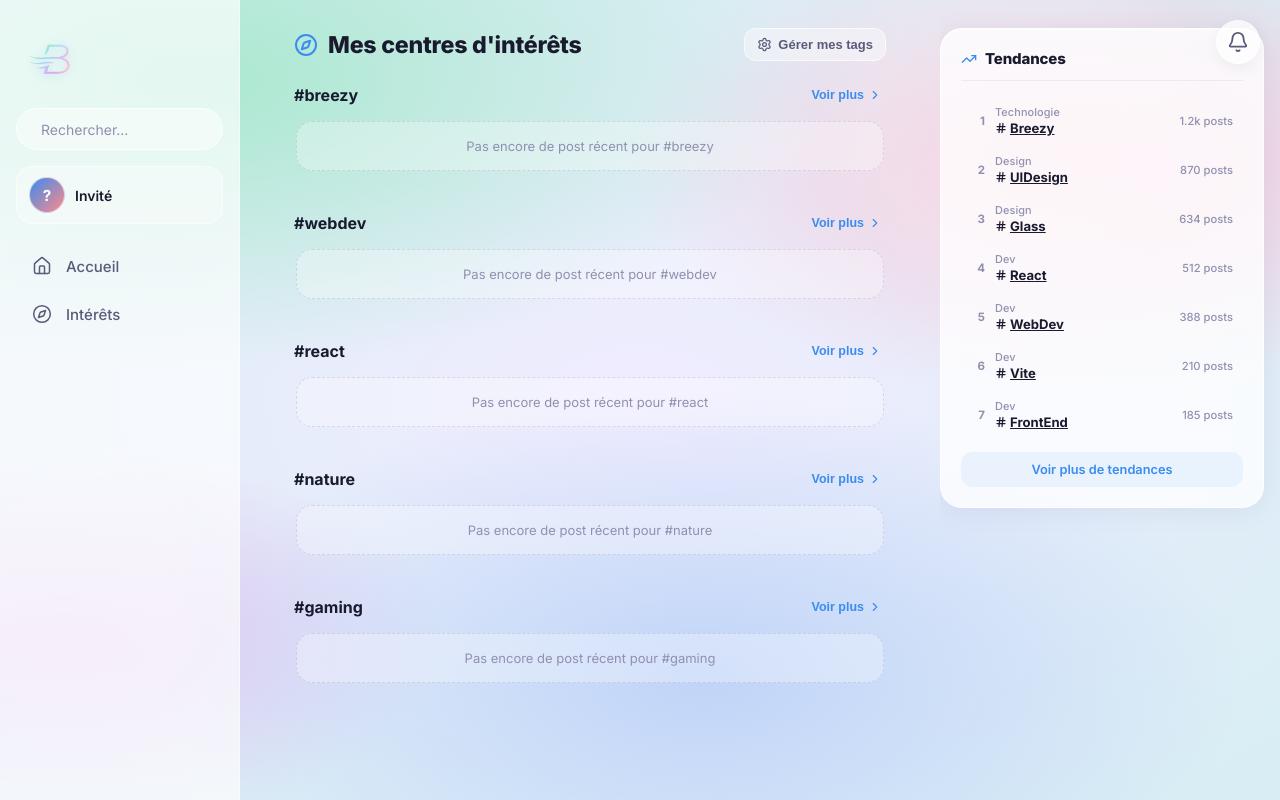
Test case: InterestsPage › permet de basculer en mode focus sur un tag puis de revenir
This screenshot has width=1280, height=800.
Click the button with aria-label "Voir plus de posts pour #nature" at (847, 479), box left=812, top=472, right=882, bottom=486
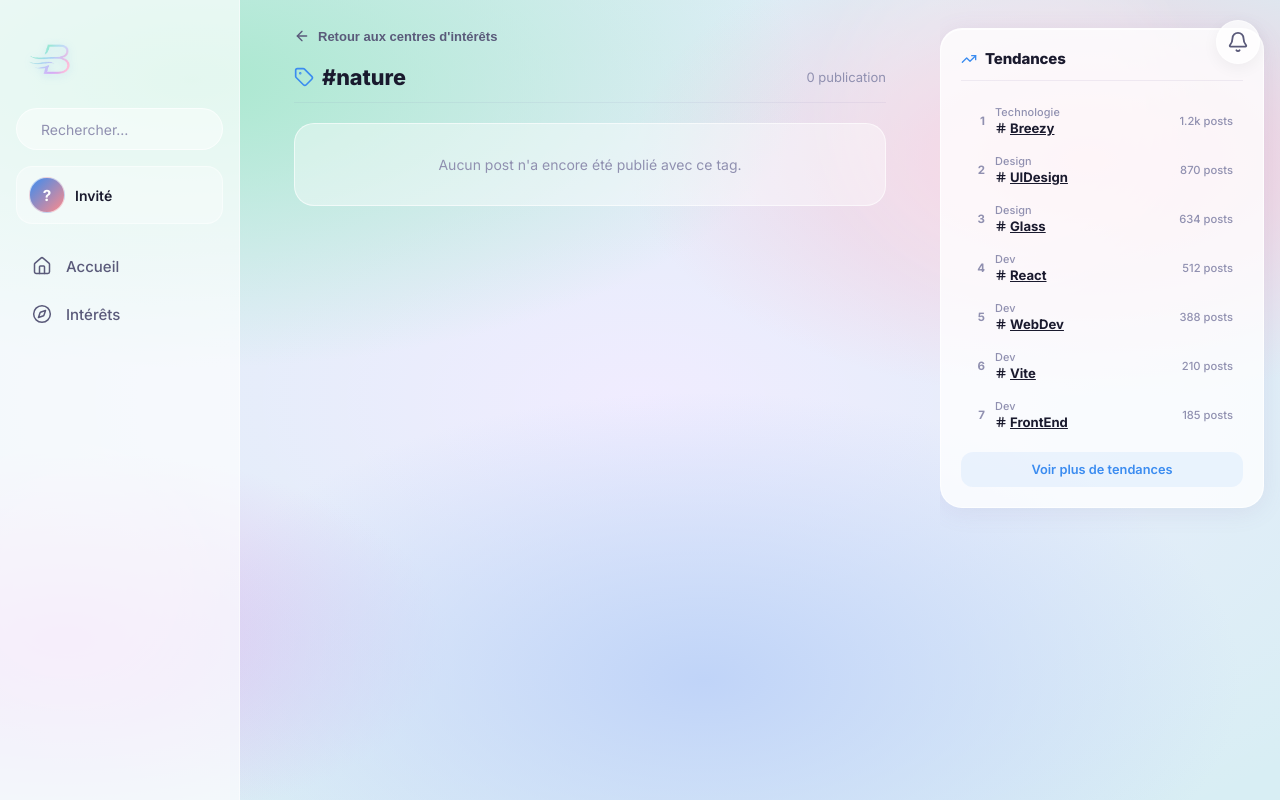
Expected: the heading "#nature" is shown, left=322, top=64, right=406, bottom=90
Expected: the button "Retour aux centres d'intérêts" is shown
Note: Cliquer sur retour
Click the button "Retour aux centres d'intérêts" at (396, 36), box left=294, top=28, right=497, bottom=44
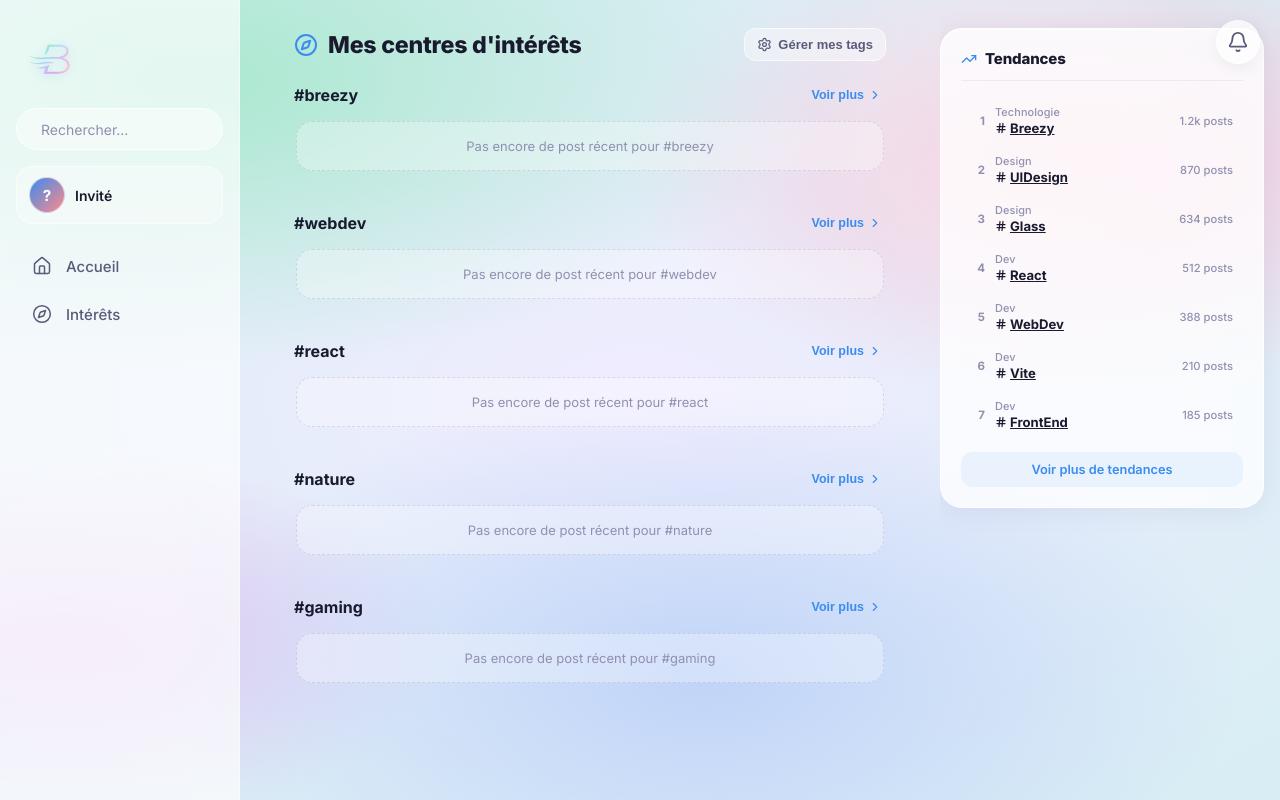
Expected: the heading "Mes centres d'intérêts" is shown, left=328, top=30, right=582, bottom=58
